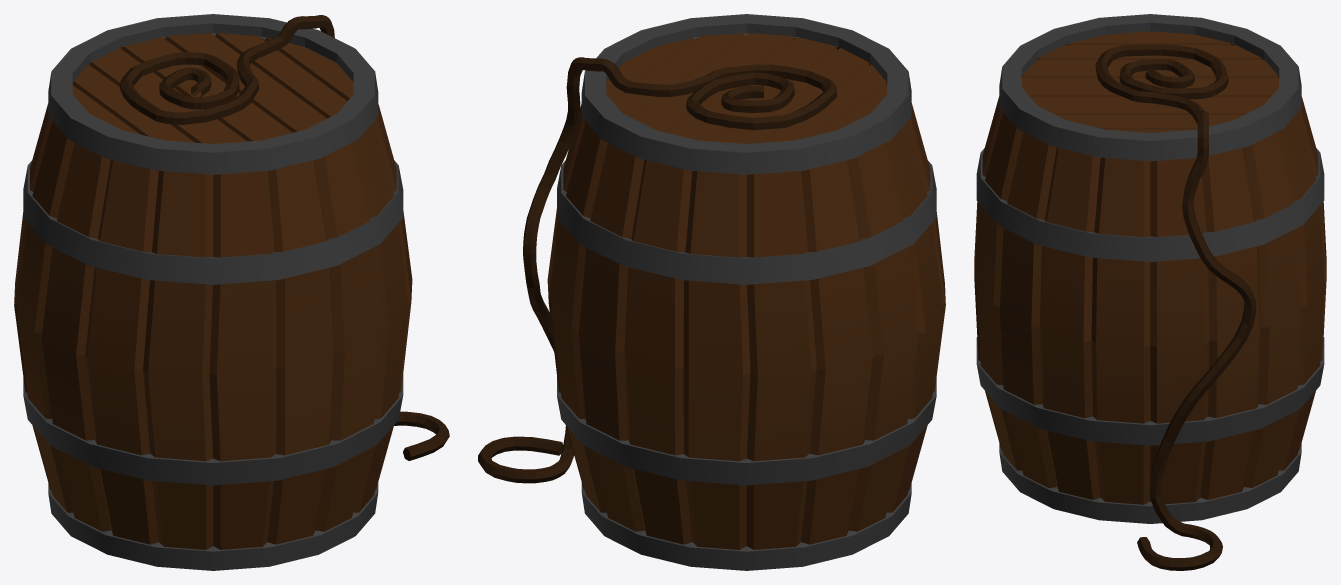
File: Barrel with rope.FBX
The picture shows the model from 3 angles, left to right: view 1: azimuth 30°, elevation 25°; view 2: azimuth 150°, elevation 25°; view 3: azimuth 270°, elevation 25°; orthographic projection. The views are drawn at different scales.
Parts seen in each view (by area): view 1: Barrel, Barrell rings, Cylinder001; view 2: Barrel, Barrell rings, Cylinder001; view 3: Barrel, Barrell rings, Cylinder001.
Part boxes in pixels (<box>): Barrel: <box>14,33,412,549</box>; Barrell rings: <box>23,14,403,570</box>; Cylinder001: <box>120,15,449,460</box>; Barrel: <box>547,33,945,549</box>; Barrell rings: <box>557,14,936,570</box>; Cylinder001: <box>478,57,836,483</box>; Barrel: <box>974,31,1326,504</box>; Barrell rings: <box>976,14,1324,523</box>; Cylinder001: <box>1095,44,1256,570</box>.
Bounding box in the file's own units: 93.14 × 92.34 × 73.46.
